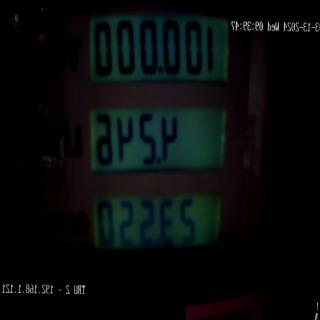screen: (80, 1, 234, 288)
